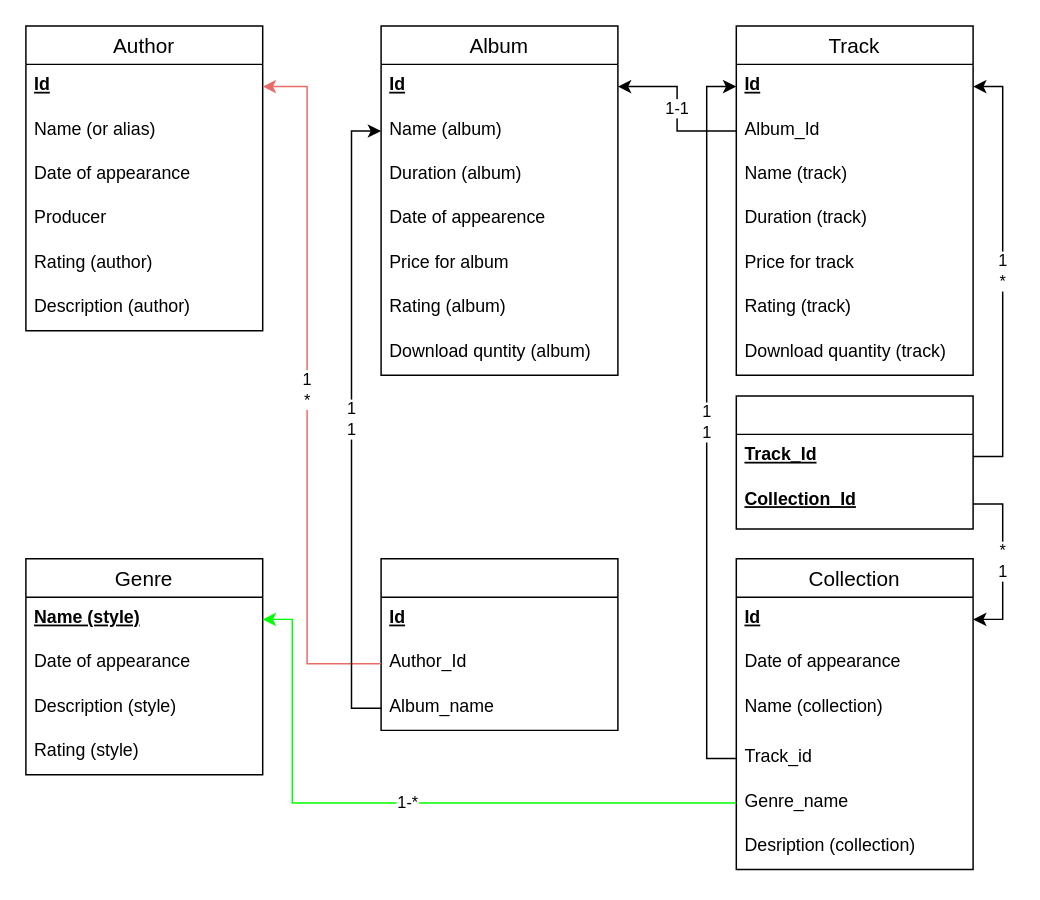
The diagram is 1040 pixels wide and 900 high, and some of its shapes have lost their labels. The box of each missing label's shape, as (x1, y1, x2, y2) in pixels:
Album_info: (380, 557, 618, 730)
TrackCollection: (735, 394, 973, 529)
